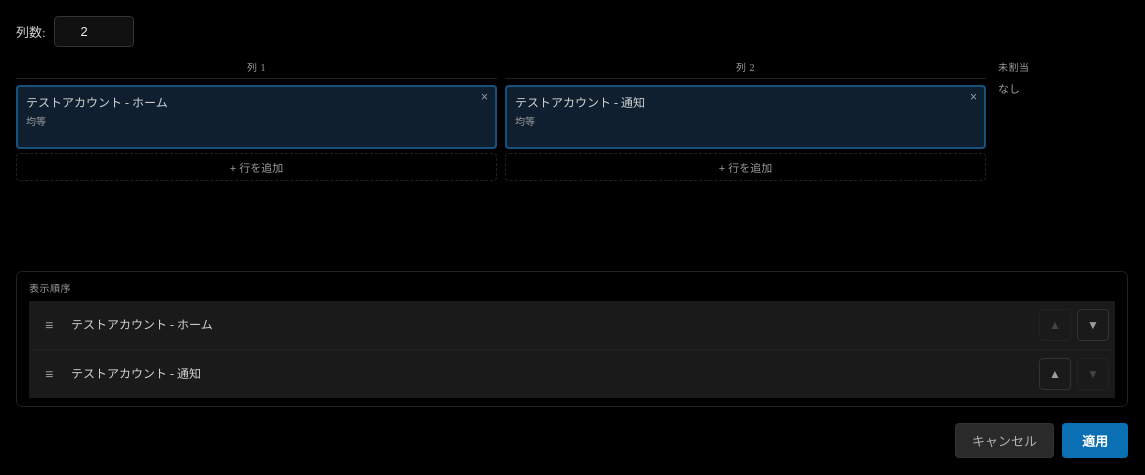
Scenario: ColumnLayoutTab › 空セルをクリックするとpendingCellになり未割当アイテムが有効になる
Step 1. Click the button named "割り当て解除" → (484, 97), box [477,90,492,104]
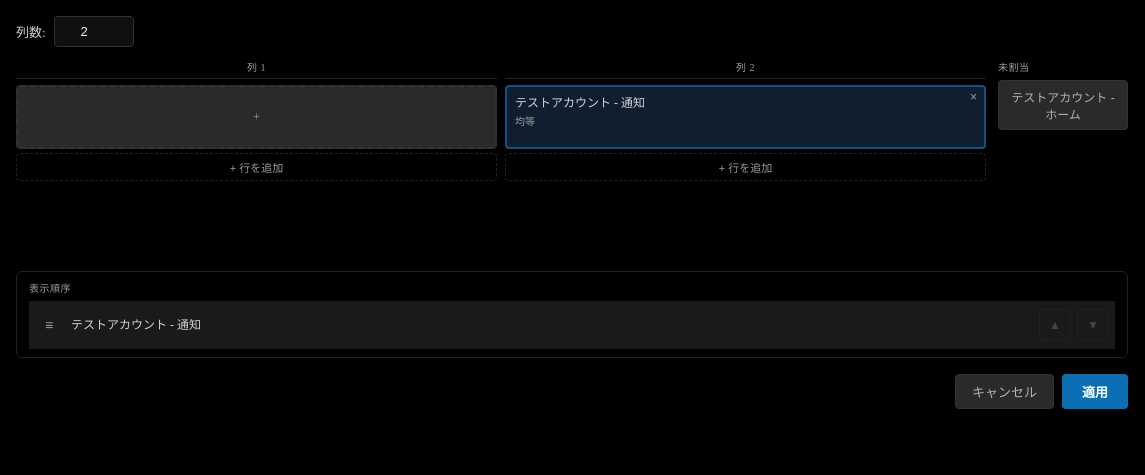
Step 2. Click the button named "列1行1のセル" → (256, 117), box [16,85,497,149]
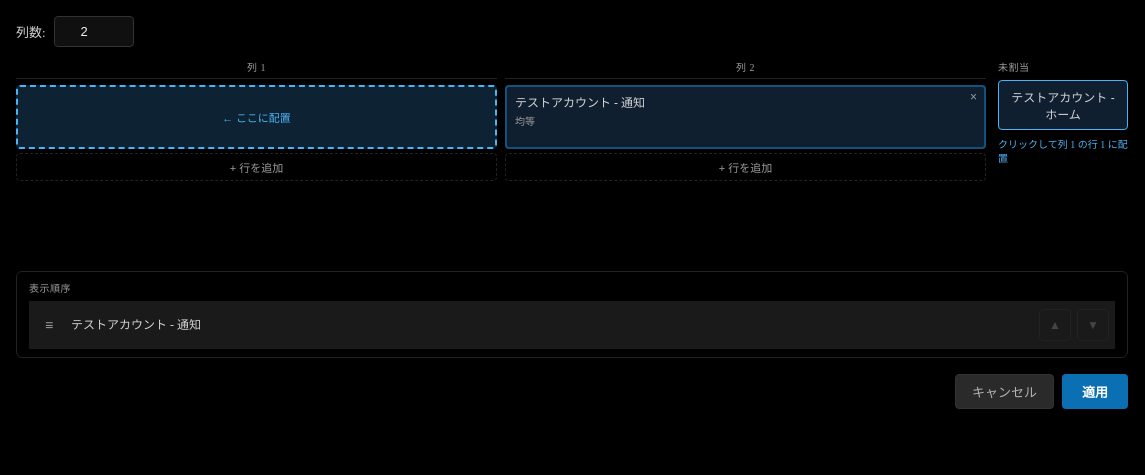
Expected: the text "クリックして列 1 の行 1 に配置" is shown, [998,138,1128,166]
Expected: the button "テストアカウント - ホーム" is enabled, [998,80,1128,130]
